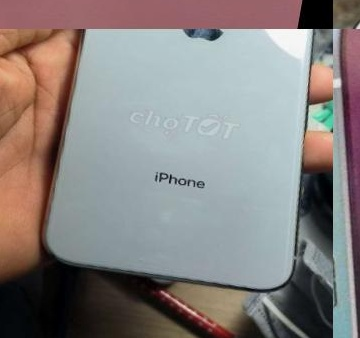scratch: (129, 251, 152, 268)
